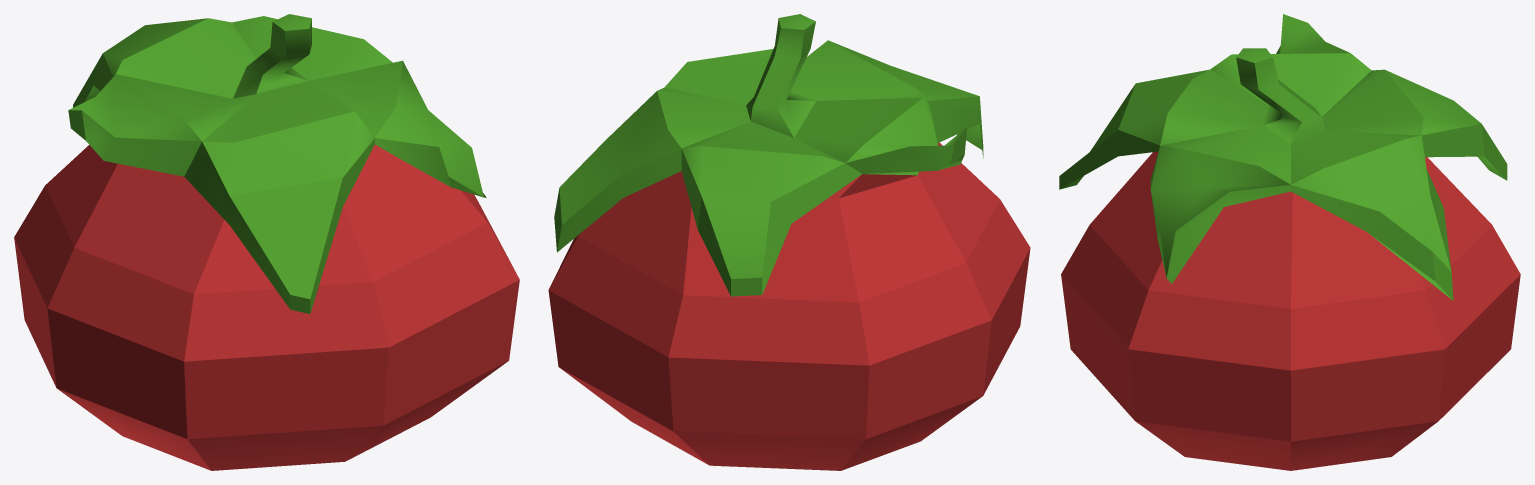
Rendered from Tomato.fbx.
3 views of the same model, side by side, from view 1: azimuth 30°, elevation 25°; view 2: azimuth 150°, elevation 25°; view 3: azimuth 270°, elevation 25° (orthographic). The views are drawn at different scales.
Visible parts, largest first — view 1: Tomate; view 2: Tomate; view 3: Tomate.
Boxes of the visible parts, x1=… form: Tomate: x1=14, y1=14, x2=519, y2=470; Tomate: x1=548, y1=14, x2=1030, y2=470; Tomate: x1=1059, y1=14, x2=1520, y2=470.
Bounding box in the file's own units: 1.77 × 1.66 × 1.8.
